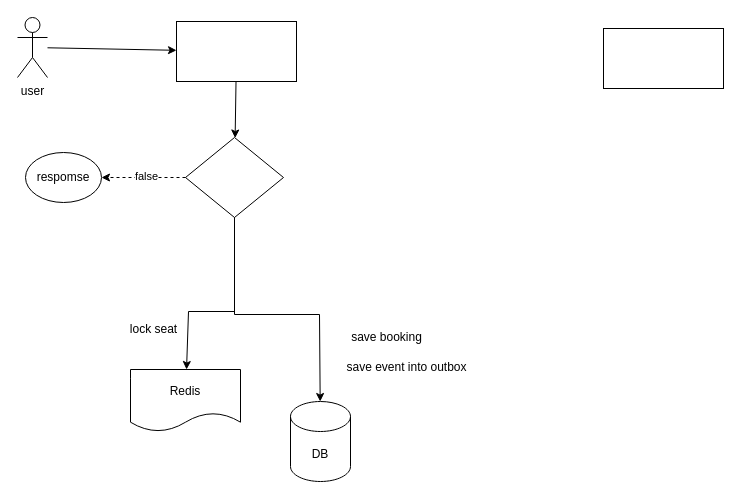
This 741x499 diagram has some shape labels left out. The centre of each missing label's shape, as x and y in pixels:
booking service: point 236,51
check seat avaiable: point 234,177
